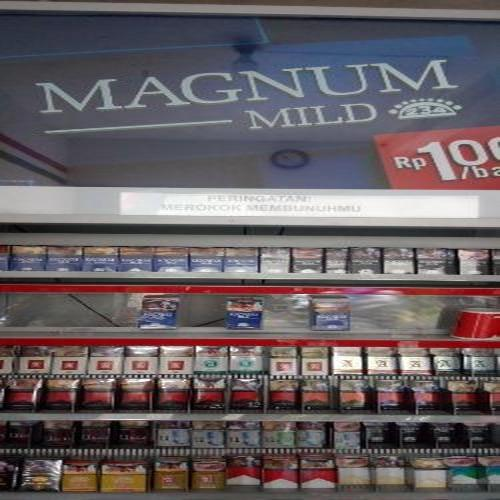A Mild: (163, 357, 190, 374), (56, 357, 81, 375), (92, 358, 117, 373), (126, 358, 151, 373)
U Mild: (159, 430, 190, 445), (229, 432, 258, 446), (194, 432, 223, 446)
